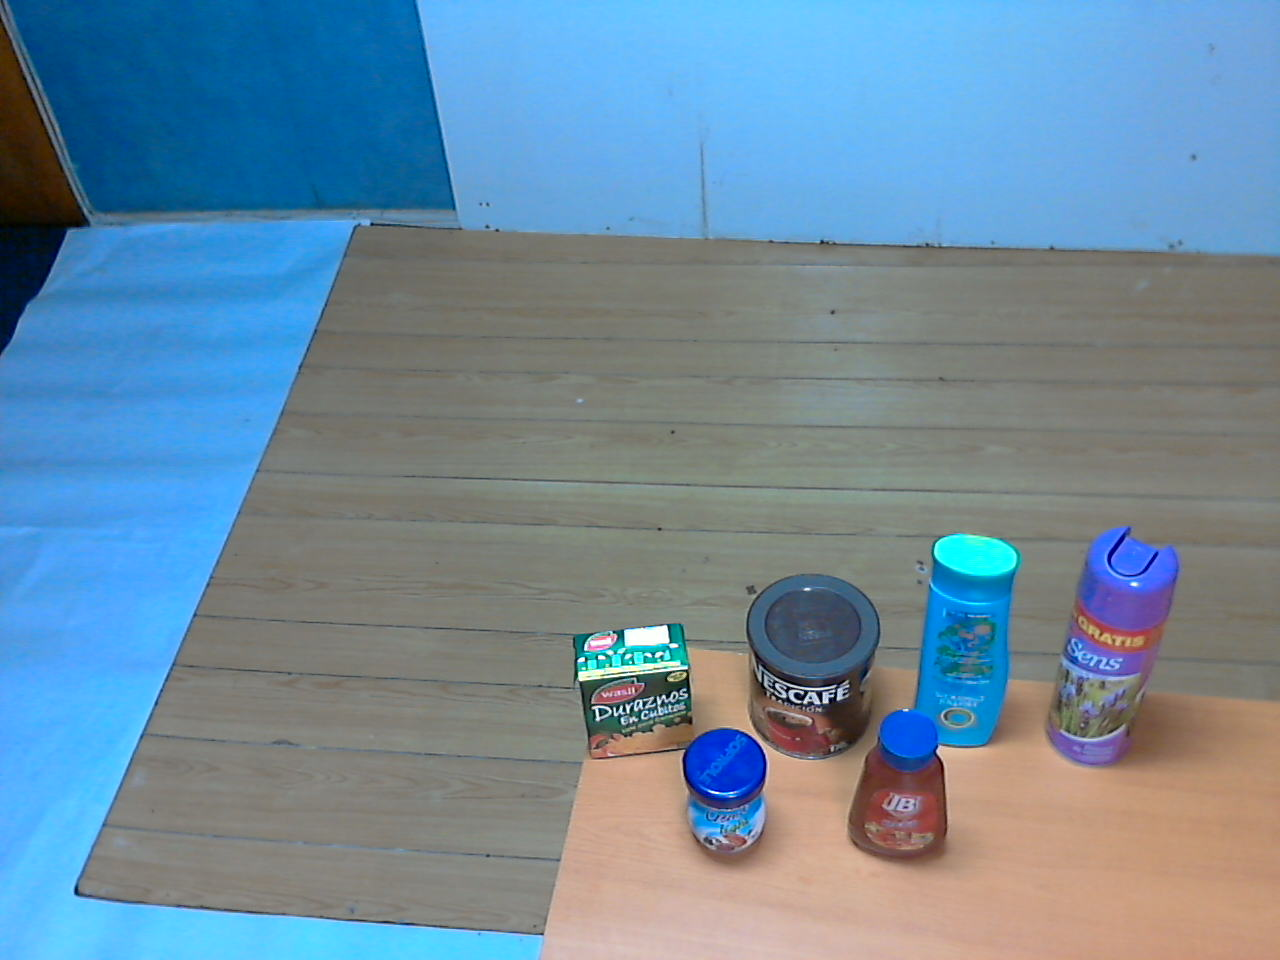aerosol: (1039, 513, 1189, 774)
balsamo: (909, 529, 1027, 763)
cafe: (739, 570, 883, 767)
crema: (674, 723, 774, 863)
durazno: (566, 623, 698, 763)
ketchup: (839, 706, 963, 869)
